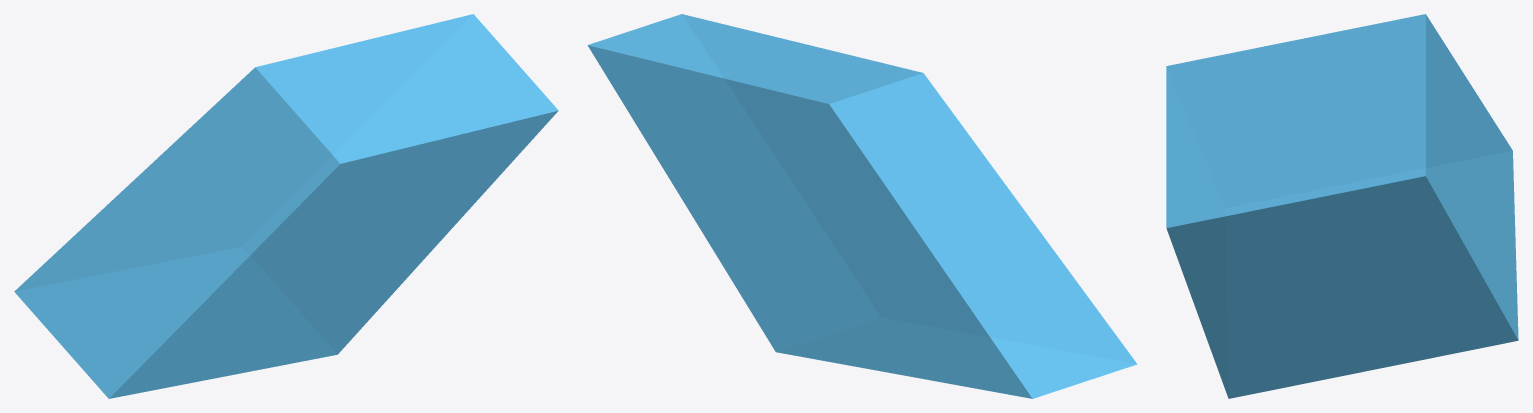
File: Event_421364160_HBrechit_16.fbx
3 renders of one model, left to right at view 1: azimuth 30°, elevation 25°; view 2: azimuth 150°, elevation 25°; view 3: azimuth 270°, elevation 25°, orthographic. The views are drawn at different scales.
Visible parts, largest first — view 1: Model; view 2: Model; view 3: Model.
Part boxes in pixels (<box>): Model: <box>14,14,558,398</box>; Model: <box>587,14,1137,398</box>; Model: <box>1166,14,1518,398</box>.
Bounding box in the file's own units: 1.14 × 0.6201 × 0.5323.
